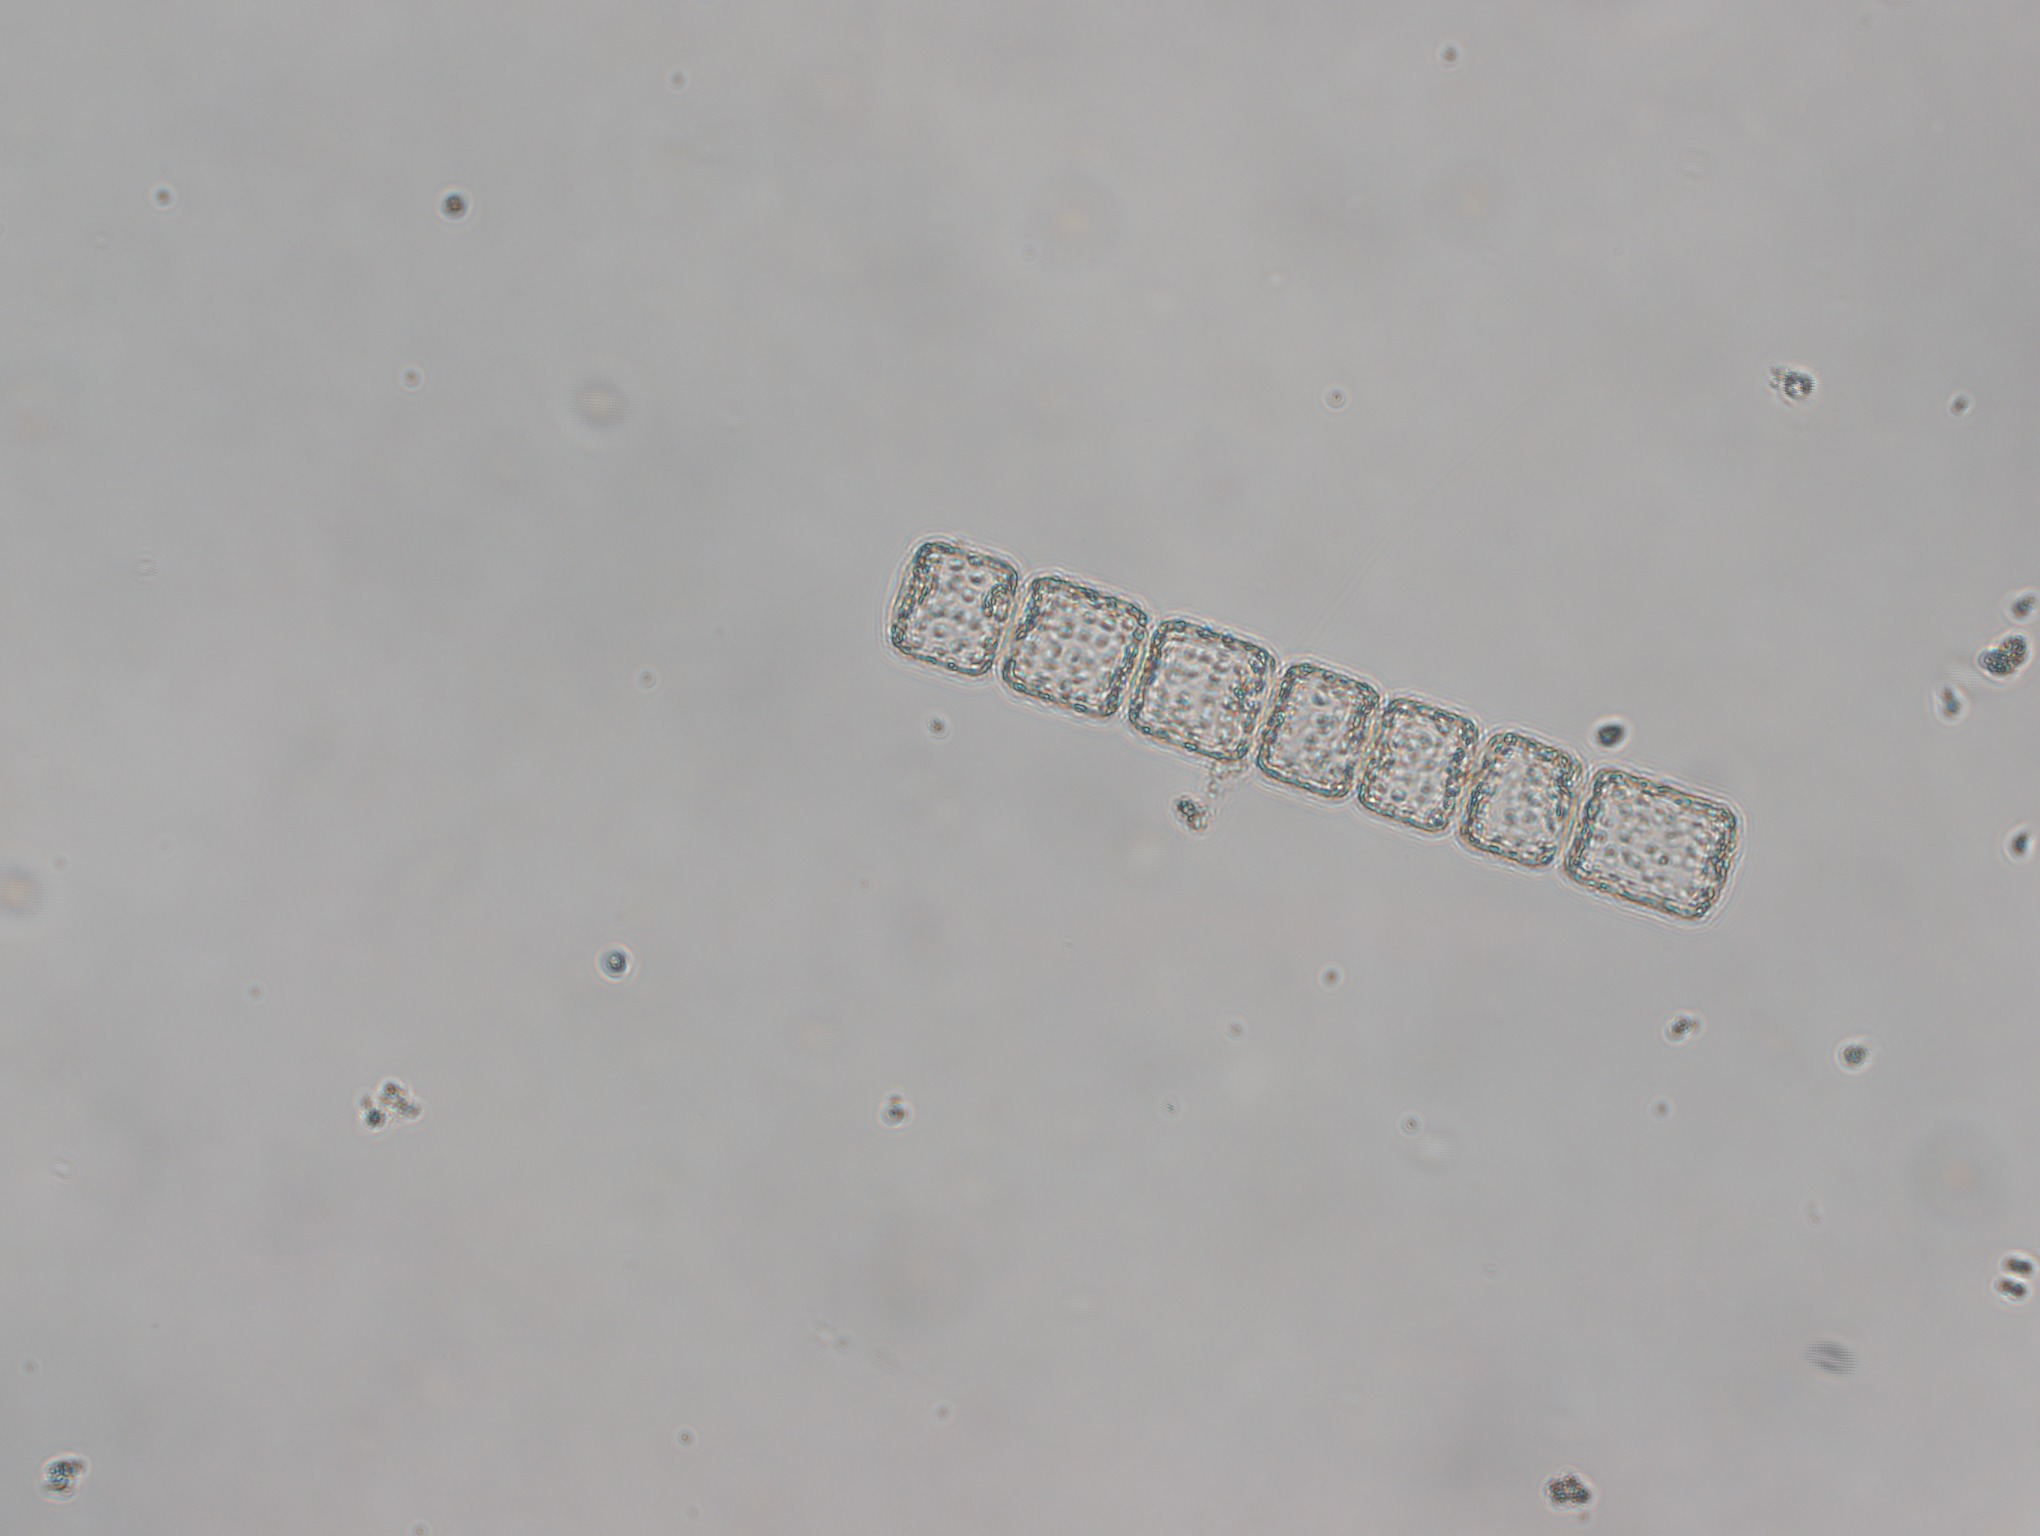detonula pumila: (871, 508, 1771, 954)
